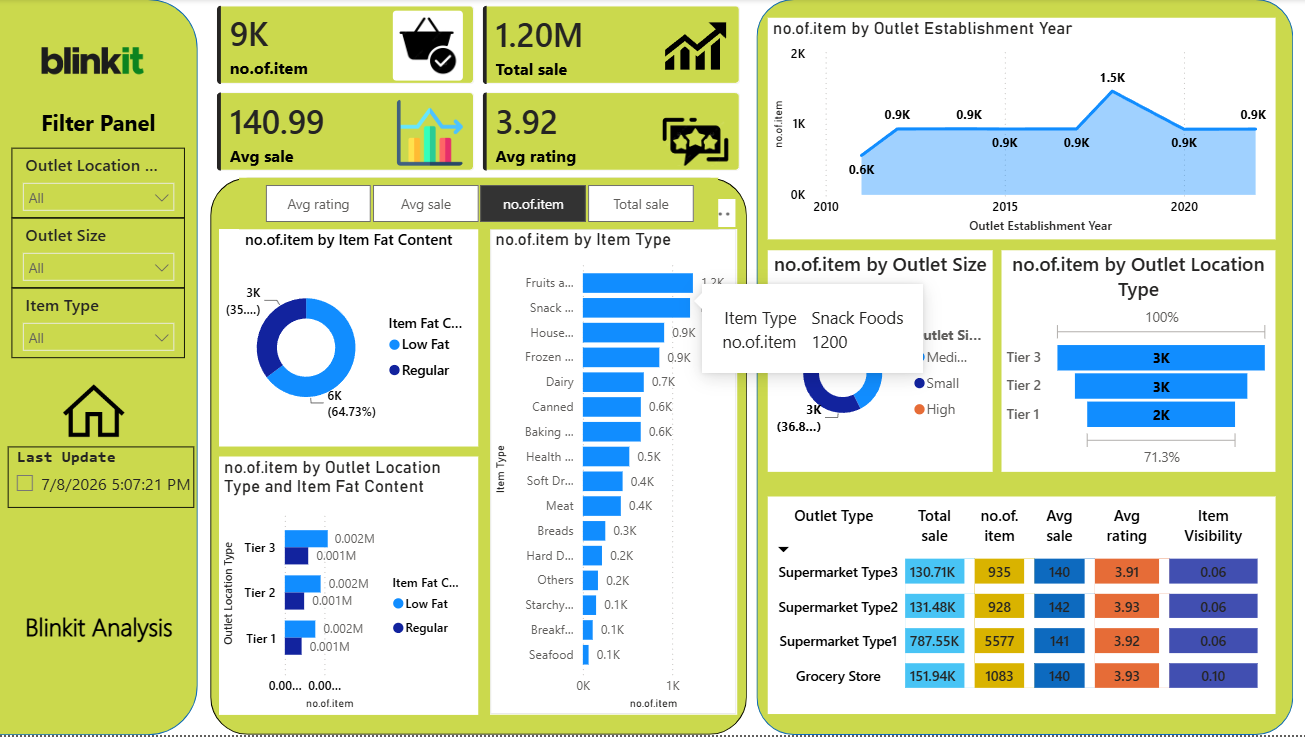

This screenshot's page, from the dashboard's own definition file:
{"tool":"powerbi","page":{"name":"Page 1","canvas":[1280,720],"ordinal":0},"visuals":[{"type":"shape","box":[0,0,194.4,720.2],"z":0},{"type":"image","box":[0,0,183.4,121.1],"z":1000},{"type":"cardVisual","fields":{"Data":["BlinkIT Grocery Data.no.of.item","BlinkIT Grocery Data.Total sale","BlinkIT Grocery Data.Avg sale","BlinkIT Grocery Data.Avg rating"]},"box":[206.7,0,524.6,174.9],"z":2000},{"type":"shape","box":[206.2,175,525,545],"z":3000},{"type":"donutChart","fields":{"Y":["BlinkIT Grocery Data.no.of.item"],"Category":["BlinkIT Grocery Data.Item Fat Content"]},"box":[215,225,253.8,212.5],"z":4000},{"type":"clusteredBarChart","fields":{"Y":["BlinkIT Grocery Data.no.of.item"],"Category":["BlinkIT Grocery Data.Outlet Location Type"],"Series":["BlinkIT Grocery Data.Item Fat Content"]},"box":[215,447.5,253.8,252.5],"z":5000},{"type":"clusteredBarChart","fields":{"Y":["BlinkIT Grocery Data.no.of.item"],"Category":["BlinkIT Grocery Data.Item Type"]},"box":[480,225,241.2,475],"z":6000},{"type":"shape","box":[741.2,0,525,720],"z":7000},{"type":"areaChart","fields":{"Y":["BlinkIT Grocery Data.no.of.item"],"Category":["BlinkIT Grocery Data.Outlet Establishment Year"]},"box":[752,18.3,496.5,216.4],"z":8000},{"type":"donutChart","fields":{"Y":["BlinkIT Grocery Data.no.of.item"],"Category":["BlinkIT Grocery Data.Outlet Size"]},"box":[752,245.8,220.1,216.4],"z":9000},{"type":"funnel","fields":{"Y":["BlinkIT Grocery Data.no.of.item"],"Category":["BlinkIT Grocery Data.Outlet Location Type"]},"box":[980.7,245.8,267.8,216.4],"z":10000},{"type":"slicer","fields":{"Values":["Parameter.Parameter"]},"box":[235,175,468.8,50],"z":11000},{"type":"pivotTable","fields":{"Rows":["BlinkIT Grocery Data.Outlet Type"],"Values":["BlinkIT Grocery Data.Total sale","BlinkIT Grocery Data.no.of.item","BlinkIT Grocery Data.Avg sale","BlinkIT Grocery Data.Avg rating","Avg(BlinkIT Grocery Data.Item Visibility)"]},"box":[752,486.7,496.5,212.8],"z":12000},{"type":"slicer","fields":{"Values":["BlinkIT Grocery Data.Outlet Location Type"]},"box":[12.2,145.5,170,68.5],"z":12001},{"type":"slicer","fields":{"Values":["BlinkIT Grocery Data.Outlet Size"]},"box":[12.2,214,170,68.5],"z":12002},{"type":"slicer","fields":{"Values":["BlinkIT Grocery Data.Item Type"]},"box":[12.2,282.5,170,68.5],"z":12003},{"type":"textbox","box":[12.2,101.5,170,44],"z":12004},{"type":"image","box":[59.8,368.7,65.4,69.6],"z":12005},{"type":"textbox","box":[12.5,592.7,171.1,44.5],"z":12006},{"type":"slicer","fields":{"Values":["Query1.Last Update"]},"box":[8.3,438.3,182.3,59.8],"z":12007}]}

Visuals, with their boxes in screenshot pixels (x1, y1, x2, y2), scaled from the page's 1280x720 canvas onto the 1305x737 screenshot:
shape: 0/0/198/736
image: 0/0/187/124
cardVisual - BlinkIT Grocery Data.no.of.item x BlinkIT Grocery Data.Total sale: 211/0/746/179
shape: 210/179/745/736
donutChart - BlinkIT Grocery Data.no.of.item x BlinkIT Grocery Data.Item Fat Content: 219/230/478/448
clusteredBarChart - BlinkIT Grocery Data.no.of.item x BlinkIT Grocery Data.Outlet Location Type: 219/458/478/717
clusteredBarChart - BlinkIT Grocery Data.no.of.item x BlinkIT Grocery Data.Item Type: 489/230/735/717
shape: 756/0/1291/736
areaChart - BlinkIT Grocery Data.no.of.item x BlinkIT Grocery Data.Outlet Establishment Year: 767/19/1273/240
donutChart - BlinkIT Grocery Data.no.of.item x BlinkIT Grocery Data.Outlet Size: 767/252/991/473
funnel - BlinkIT Grocery Data.no.of.item x BlinkIT Grocery Data.Outlet Location Type: 1000/252/1273/473
slicer - Parameter.Parameter: 240/179/718/230
pivotTable - BlinkIT Grocery Data.Outlet Type x BlinkIT Grocery Data.Total sale: 767/498/1273/716
slicer - BlinkIT Grocery Data.Outlet Location Type: 12/149/186/219
slicer - BlinkIT Grocery Data.Outlet Size: 12/219/186/289
slicer - BlinkIT Grocery Data.Item Type: 12/289/186/359
textbox: 12/104/186/149
image: 61/377/128/449
textbox: 13/607/187/652
slicer - Query1.Last Update: 8/449/194/510
